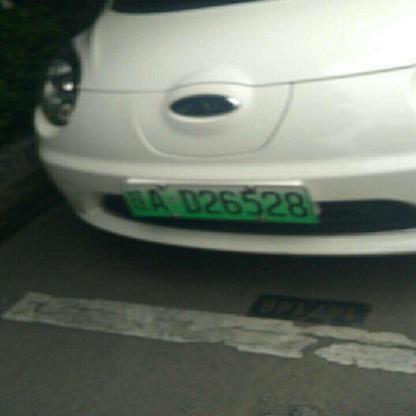lp: (122, 186, 317, 226)
